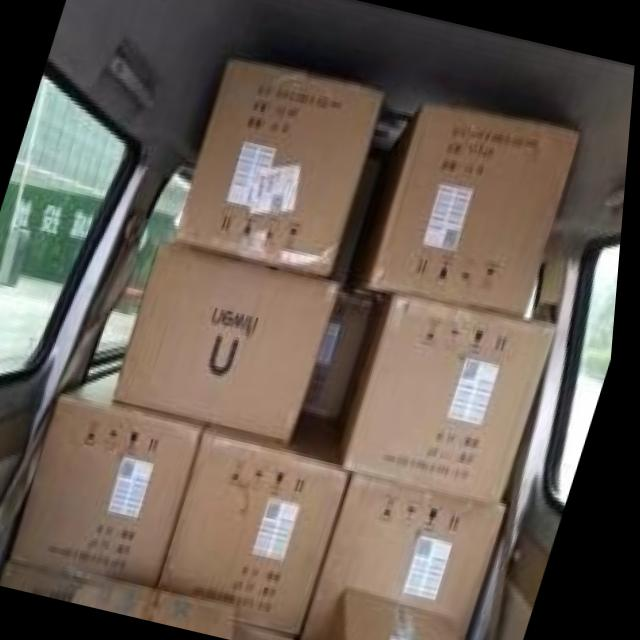box: (350, 101, 585, 319), (119, 240, 347, 443), (176, 58, 387, 277), (345, 295, 562, 505), (168, 413, 361, 638), (18, 371, 211, 586), (311, 471, 514, 640), (79, 570, 248, 640), (307, 292, 382, 422), (338, 588, 469, 640)
